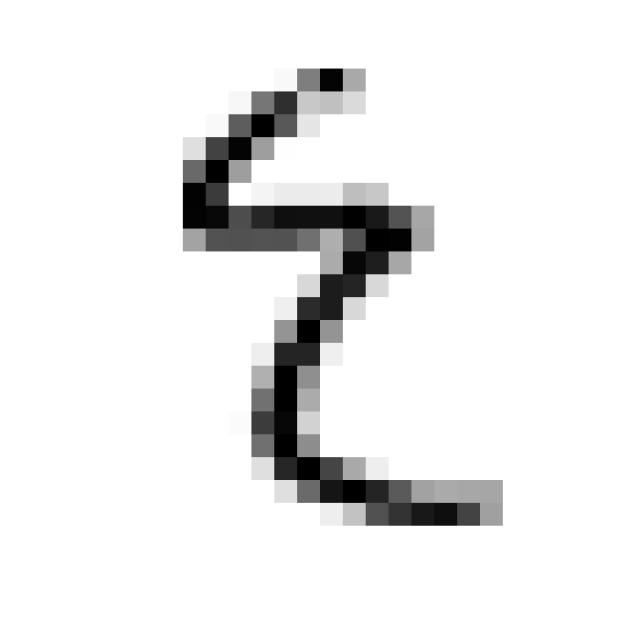4 -four-: (160, 46, 520, 548)
